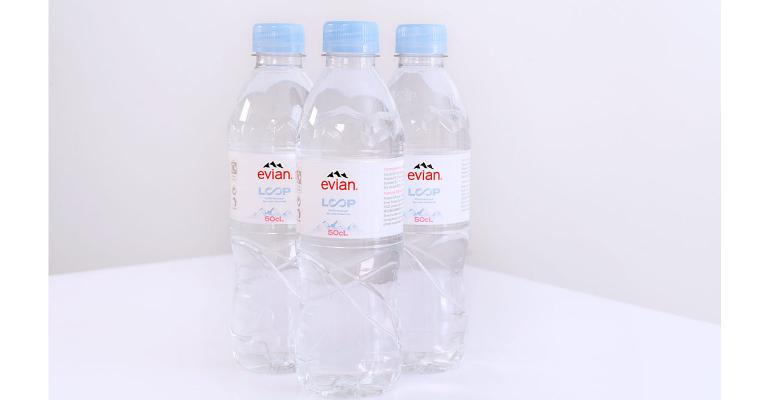PlasticBottle: (299, 25, 389, 395), (223, 20, 303, 371), (390, 22, 466, 373)
